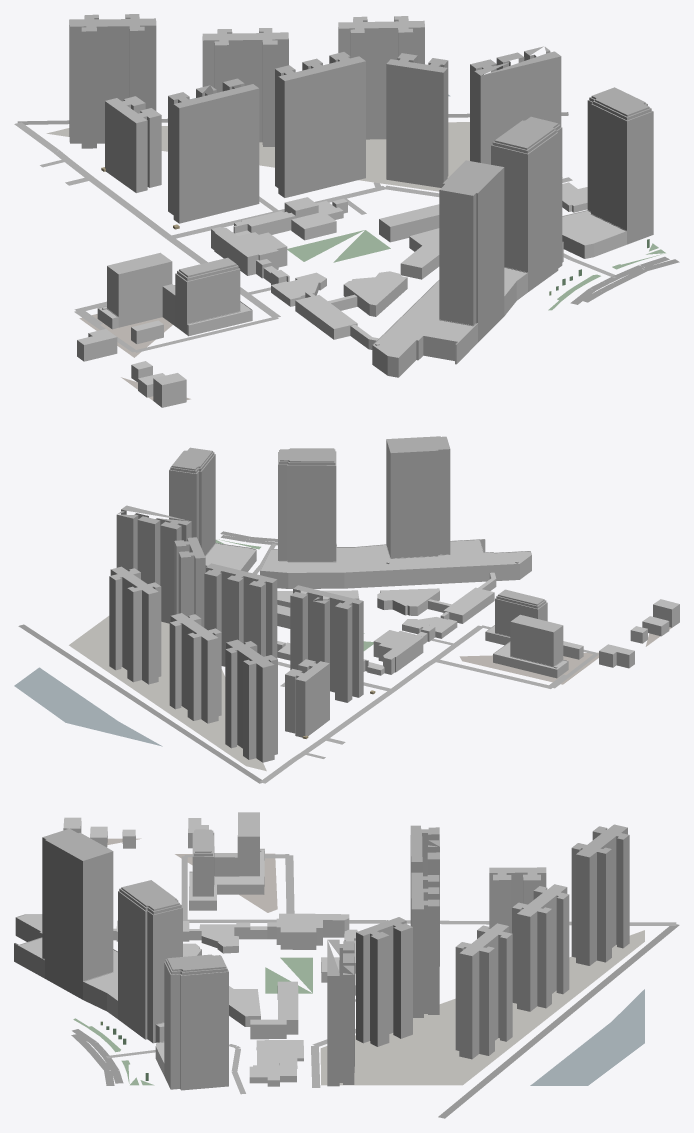
The picture shows the model from 3 angles, top to bottom: view 1: azimuth 30°, elevation 25°; view 2: azimuth 150°, elevation 25°; view 3: azimuth 270°, elevation 25°; orthographic projection. The views are drawn at different scales.
Bounding box in the file's own units: 578 × 134 × 576.
